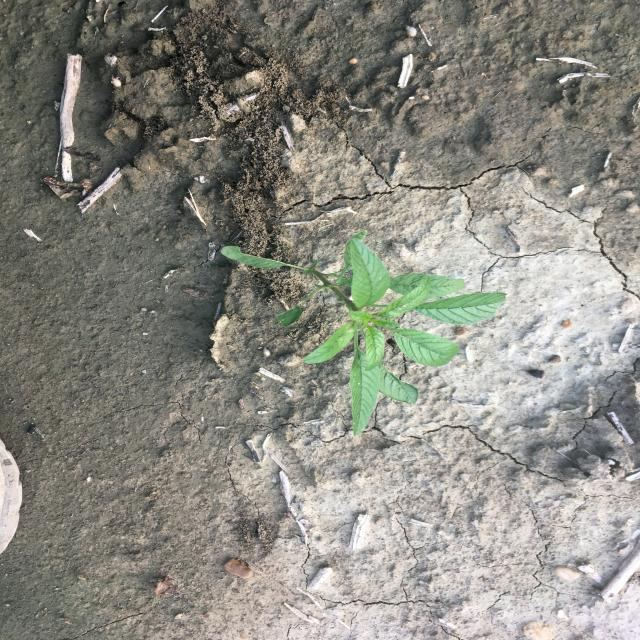Waterhemp: (219, 229, 509, 438)
